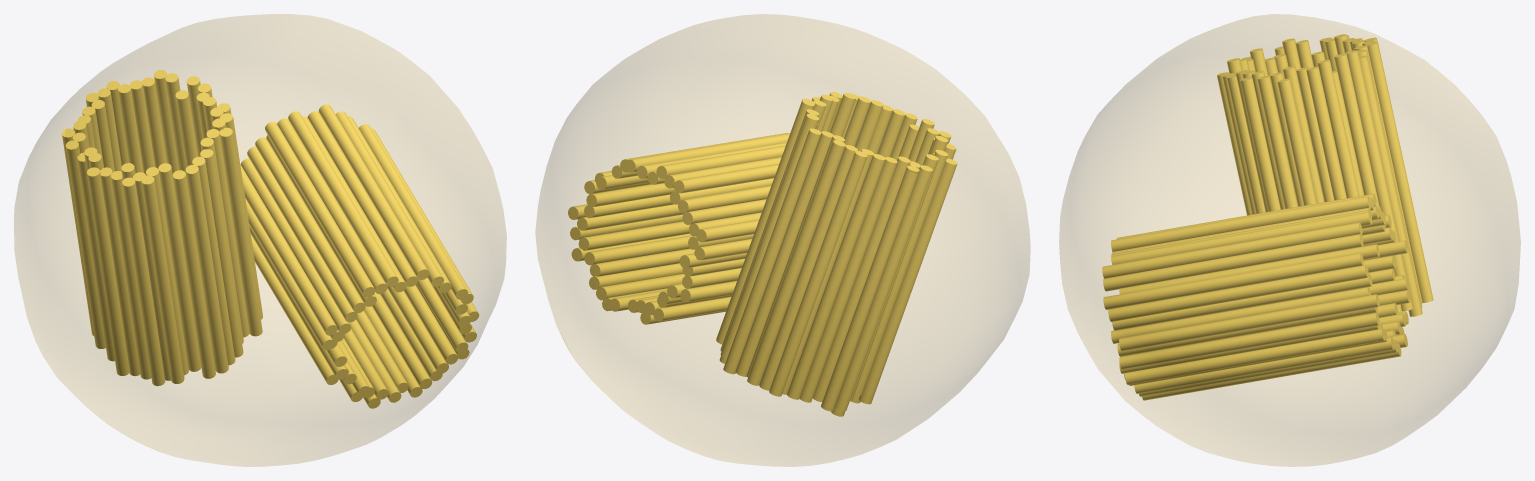
The model's file is centrosome.glb.
3 renders of one model, left to right at view 1: azimuth 30°, elevation 25°; view 2: azimuth 150°, elevation 25°; view 3: azimuth 270°, elevation 25°, orthographic. The views are drawn at different scales.
Visible parts, largest first — view 1: cz-centrosome, cz-centrioles; view 2: cz-centrosome, cz-centrioles; view 3: cz-centrosome, cz-centrioles.
Boxes of the visible parts, x1,y1,x2,y2 form: cz-centrosome: (14, 14, 506, 466); cz-centrioles: (62, 70, 479, 408); cz-centrosome: (535, 14, 1030, 466); cz-centrioles: (568, 92, 957, 416); cz-centrosome: (1059, 14, 1520, 466); cz-centrioles: (1102, 34, 1433, 400).
Bounding box in the file's own units: 11.51 × 10.26 × 10.75.
